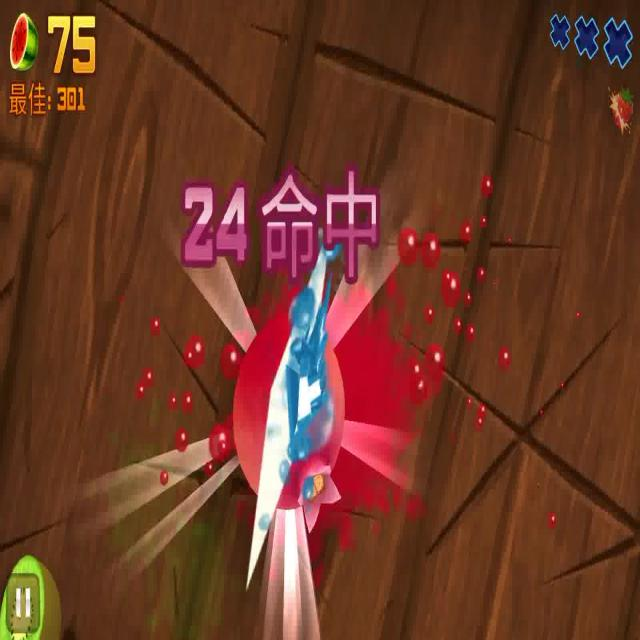fruit: (226, 318, 354, 515), (3, 547, 68, 635)
